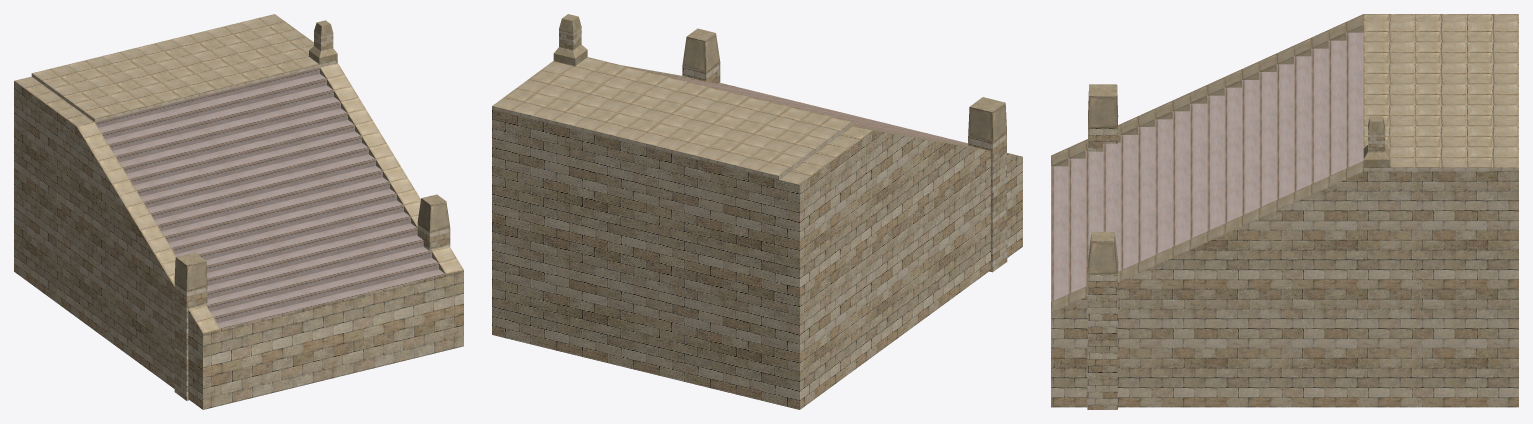
File: thm_nboo_thed_imprv_seawall_stair_s01_l1.fbx
3 renders of one model, left to right at view 1: azimuth 30°, elevation 25°; view 2: azimuth 150°, elevation 25°; view 3: azimuth 270°, elevation 25°, orthographic. The views are drawn at different scales.
Parts seen in each view (by area): view 1: mesh_node; view 2: mesh_node; view 3: mesh_node.
Part boxes in pixels (<box>): mesh_node: <box>14,14,463,409</box>; mesh_node: <box>492,14,1022,409</box>; mesh_node: <box>1051,14,1518,409</box>.
Bounding box in the file's own units: 8.67 × 7.25 × 10.78.
